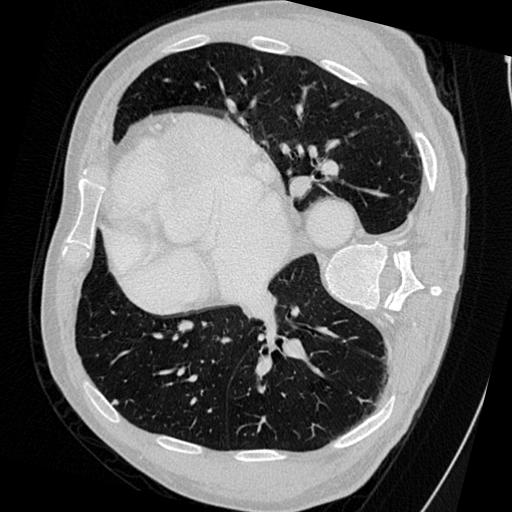nodule: (109, 397, 121, 409)
